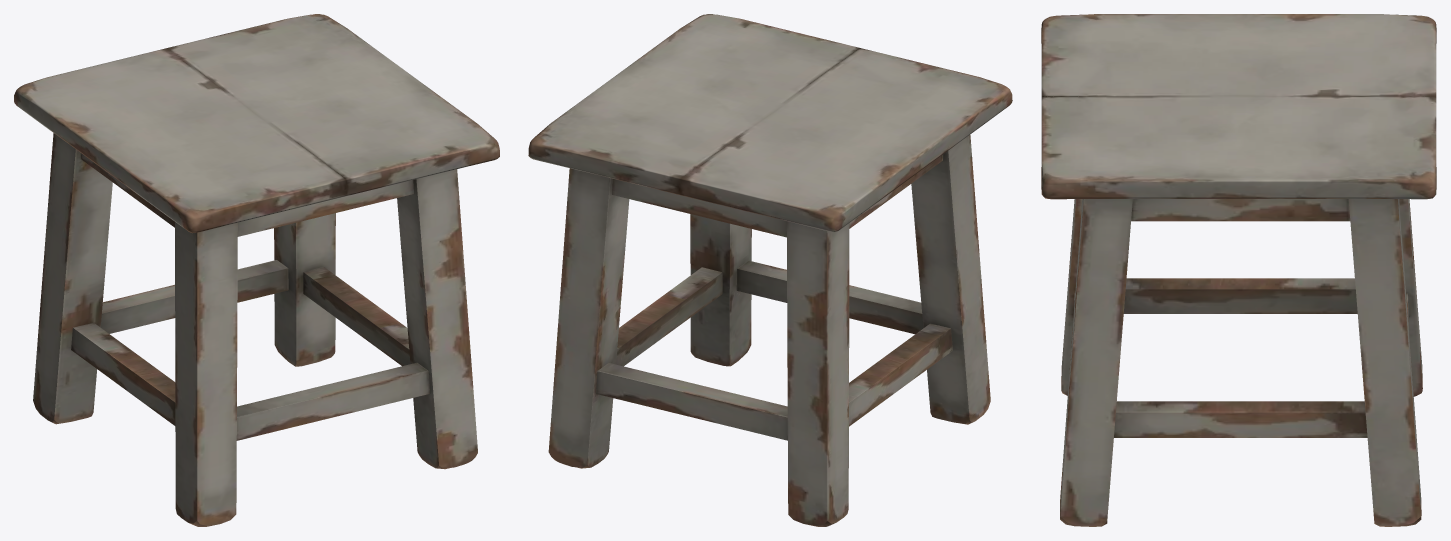
The model's file is ph-painted-wooden-stool.glb.
3 views of the same model, side by side, from view 1: azimuth 30°, elevation 25°; view 2: azimuth 150°, elevation 25°; view 3: azimuth 270°, elevation 25° (orthographic). The views are drawn at different scales.
Parts seen in each view (by area): view 1: painted_wooden_stool; view 2: painted_wooden_stool; view 3: painted_wooden_stool.
Part boxes in pixels (bbox=[...]): painted_wooden_stool: bbox=[14, 14, 499, 526]; painted_wooden_stool: bbox=[528, 14, 1012, 526]; painted_wooden_stool: bbox=[1041, 14, 1436, 526].
Bounding box in the file's own units: 1 × 1 × 1.
Materials: 1 (1 with a texture image).
